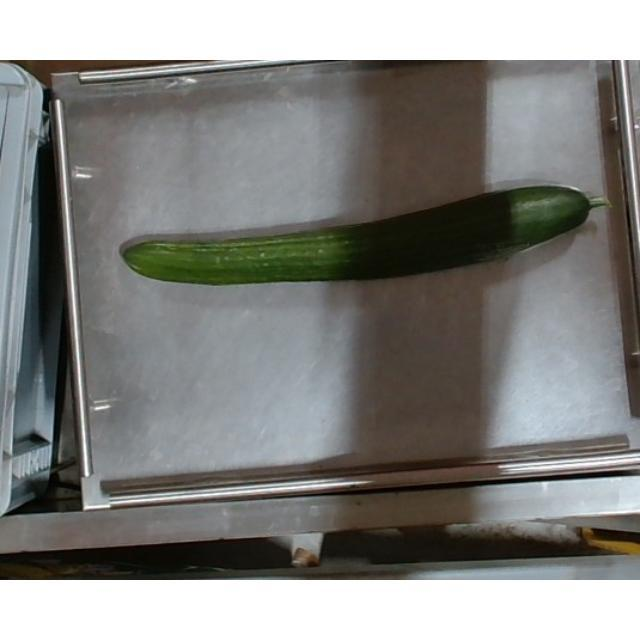cucumber: (120, 185, 614, 283)
